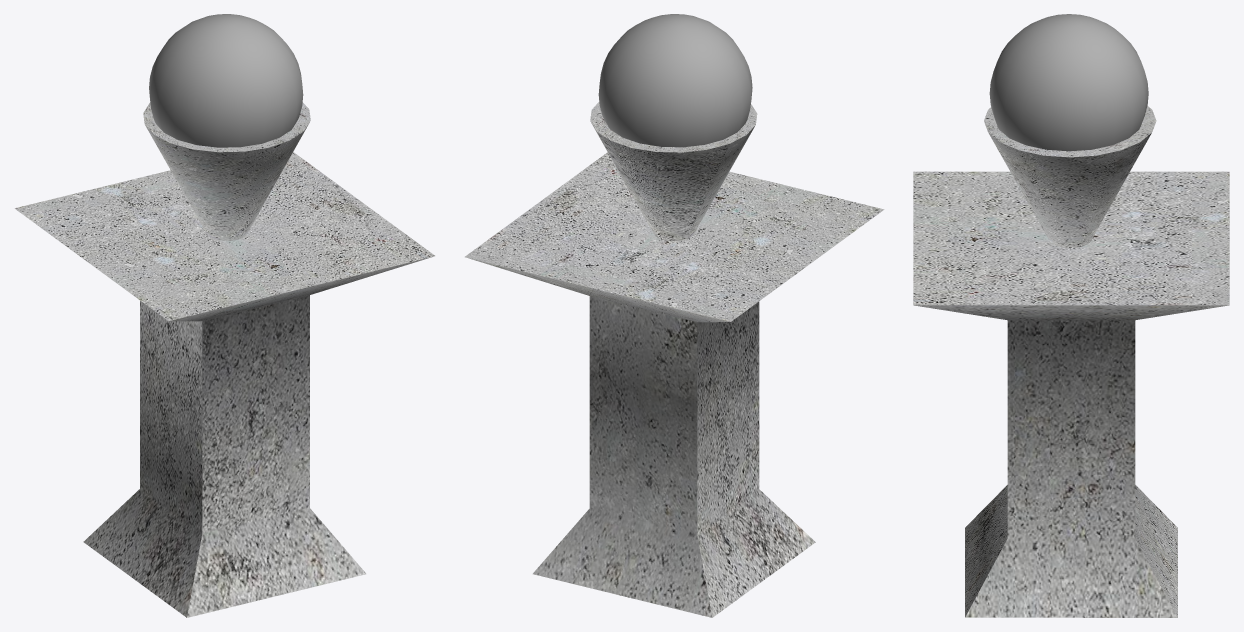
File: lantern.fbx
3 views of the same model, side by side, from view 1: azimuth 30°, elevation 25°; view 2: azimuth 150°, elevation 25°; view 3: azimuth 270°, elevation 25° (orthographic). The views are drawn at different scales.
Parts seen in each view (by area): view 1: lantern; view 2: lantern; view 3: lantern.
Boxes of the visible parts, x1,y1,x2,y2 form: lantern: (14, 14, 434, 617); lantern: (465, 14, 884, 617); lantern: (913, 14, 1229, 617).
Size of the model in its own units: 13.21 by 25.42 by 13.21.
2 materials, 1 textured.
